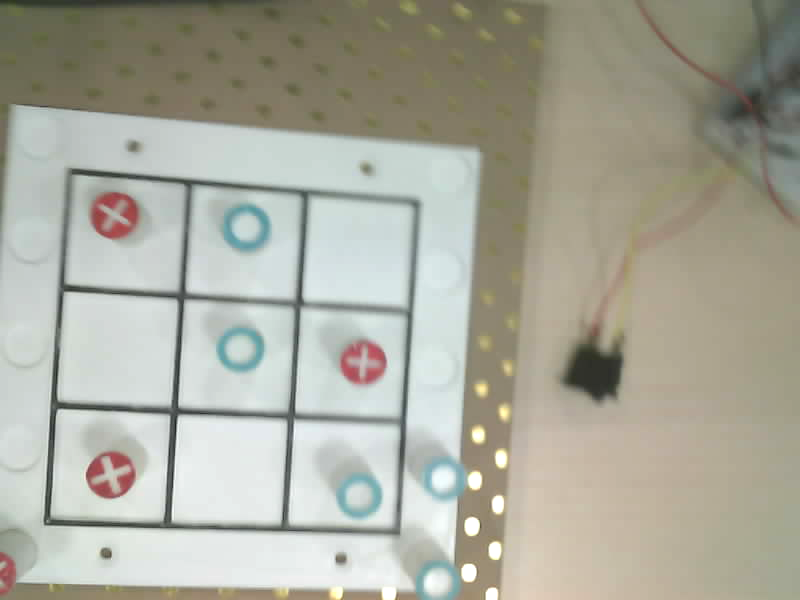blue circle: (223, 204, 271, 251), (336, 473, 382, 518), (217, 327, 264, 371), (423, 457, 466, 500), (415, 560, 460, 599)
board: (0, 106, 479, 599)
cells: (65, 175, 186, 291), (50, 409, 169, 522), (58, 292, 176, 405), (186, 185, 302, 298), (179, 300, 295, 411), (172, 415, 285, 525), (303, 195, 413, 306), (296, 307, 407, 417), (289, 420, 399, 528)
grid: (44, 169, 418, 533)
red cross: (86, 451, 135, 498), (90, 192, 138, 238), (340, 340, 386, 384), (0, 552, 16, 595)
